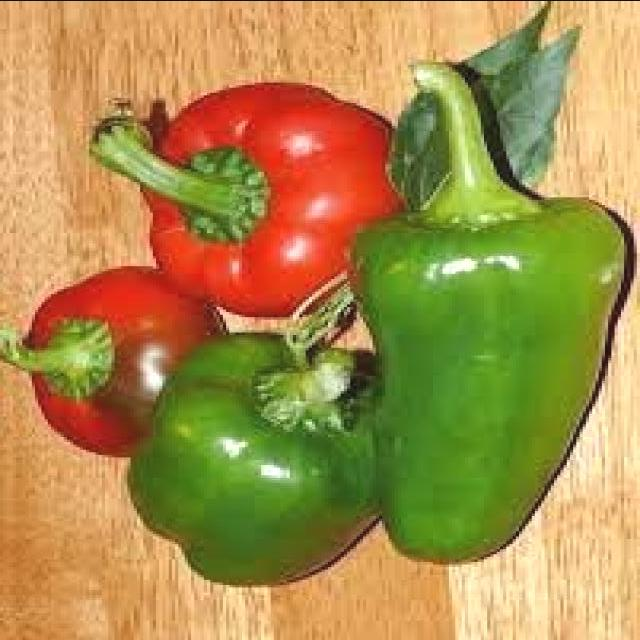bell_pepper: (128, 321, 409, 614)
